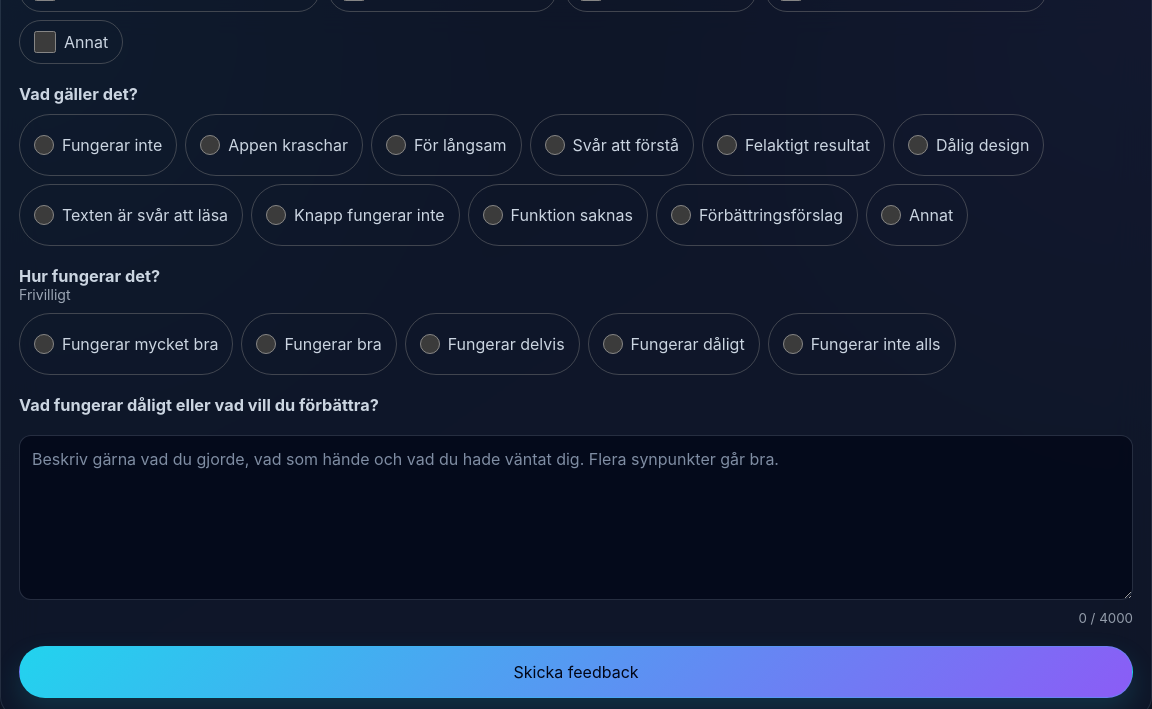
Test: Testa Viktkollen › kräver funktion och kategori men inte bedömning
The width and height of the screenshot is (1152, 709).
(page scrolled)
Click the button "Skicka feedback" at (576, 672), box [19,646,1133,698]
(page scrolled)
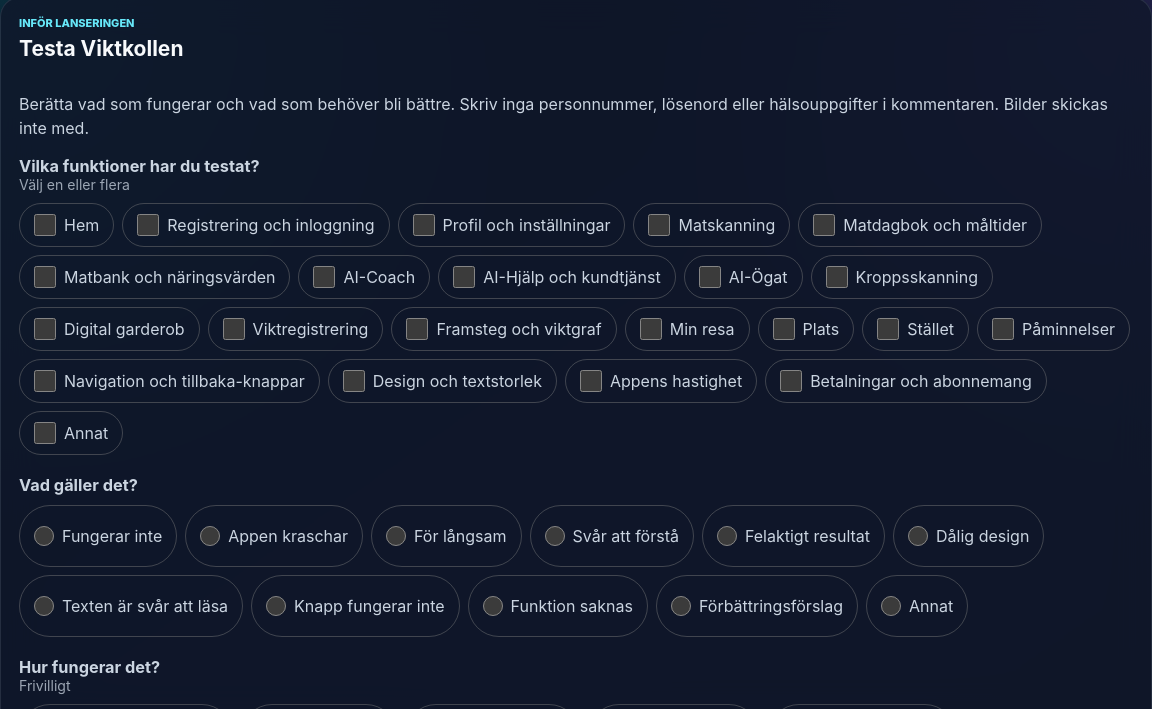
Click the checkbox labelled "Hem" at (45, 225), box [34,214,56,236]
(page scrolled)
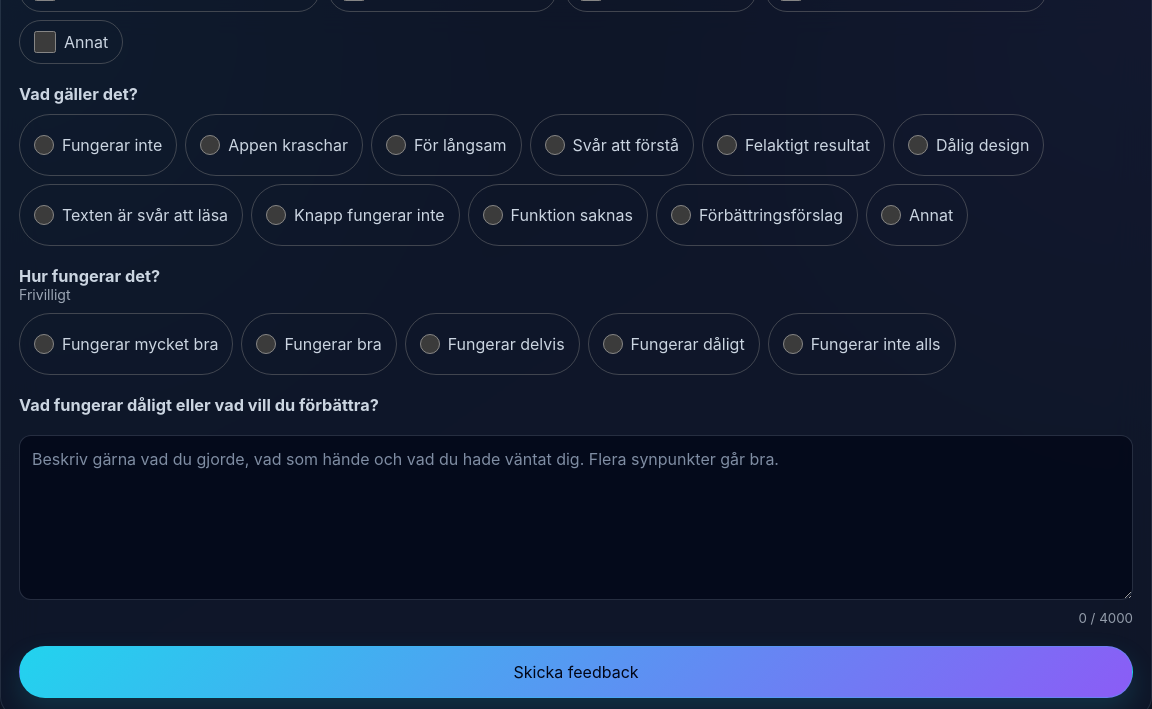
Click the button "Skicka feedback" at (576, 672), box [19,646,1133,698]
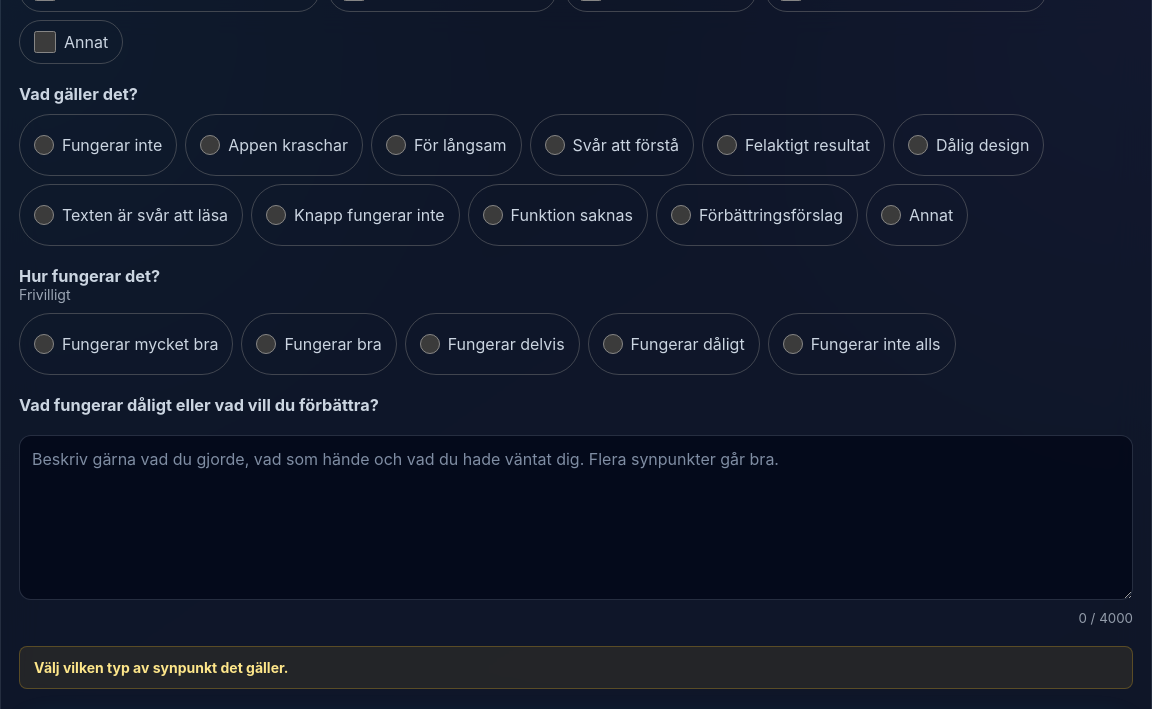
Expected: the message shows "Välj vilken typ", [34,659,288,676]
